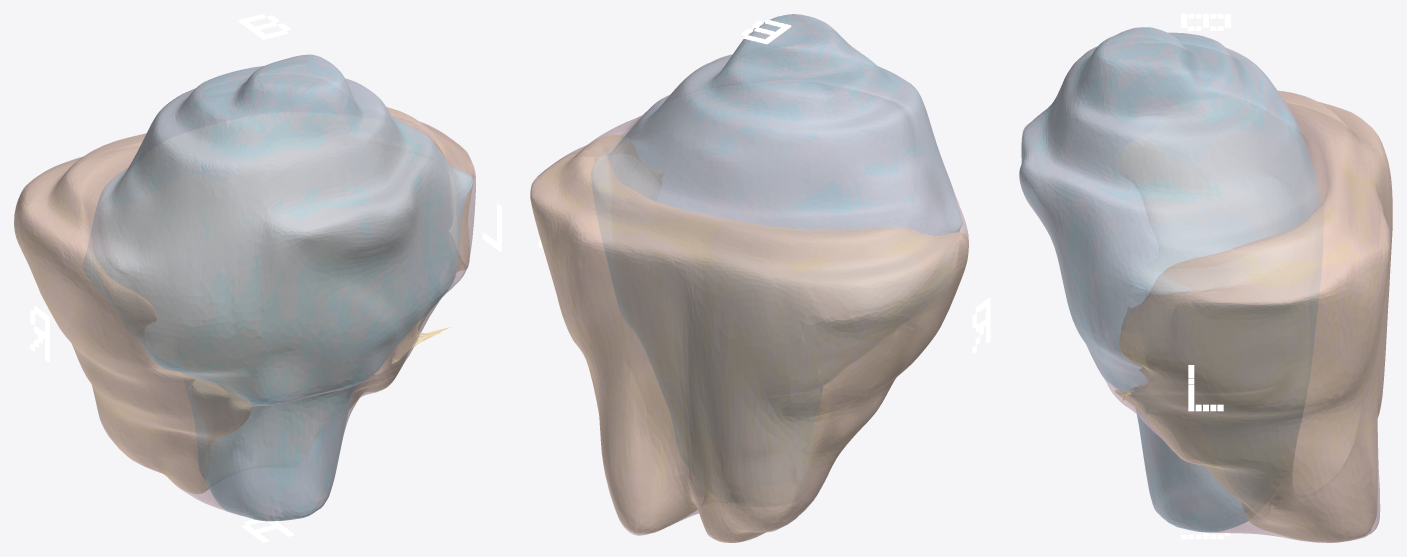
3 views of the same model, side by side, from view 1: azimuth 30°, elevation 25°; view 2: azimuth 150°, elevation 25°; view 3: azimuth 270°, elevation 25° (orthographic). The views are drawn at different scales.
Visible parts, largest first — view 1: prostate_gland, transition_zone, peripheral_zone, pv_ar_marker_B, pv_ar_marker_R; view 2: prostate_gland, peripheral_zone, transition_zone, pv_ar_marker_B, pv_ar_marker_R; view 3: prostate_gland, peripheral_zone, transition_zone, pv_ar_marker_B, pv_ar_marker_L.
Boxes of the visible parts, x1=… form: prostate_gland: x1=14, y1=54, x2=475, y2=521; transition_zone: x1=83, y1=54, x2=473, y2=520; peripheral_zone: x1=14, y1=107, x2=474, y2=493; pv_ar_marker_B: x1=238, y1=14, x2=290, y2=39; pv_ar_marker_R: x1=30, y1=306, x2=49, y2=361; prostate_gland: x1=530, y1=14, x2=968, y2=542; peripheral_zone: x1=530, y1=135, x2=968, y2=542; transition_zone: x1=591, y1=14, x2=962, y2=480; pv_ar_marker_B: x1=741, y1=19, x2=791, y2=44; pv_ar_marker_R: x1=972, y1=297, x2=990, y2=353; prostate_gland: x1=1019, y1=27, x2=1392, y2=542; peripheral_zone: x1=1115, y1=91, x2=1392, y2=542; transition_zone: x1=1019, y1=27, x2=1322, y2=532; pv_ar_marker_B: x1=1181, y1=14, x2=1230, y2=30; pv_ar_marker_L: x1=1188, y1=365, x2=1223, y2=411.
Size of the model in its own units: 0.0589 by 0.0626 by 0.0415.
